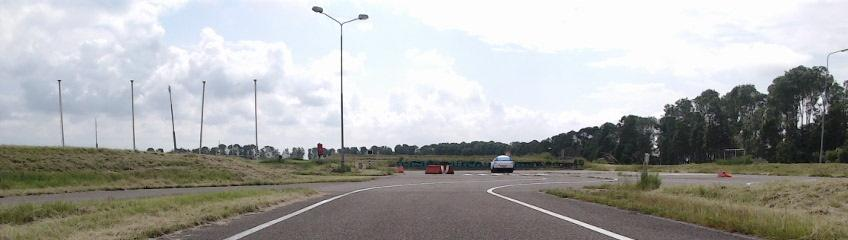Car: (491, 155, 514, 173)
